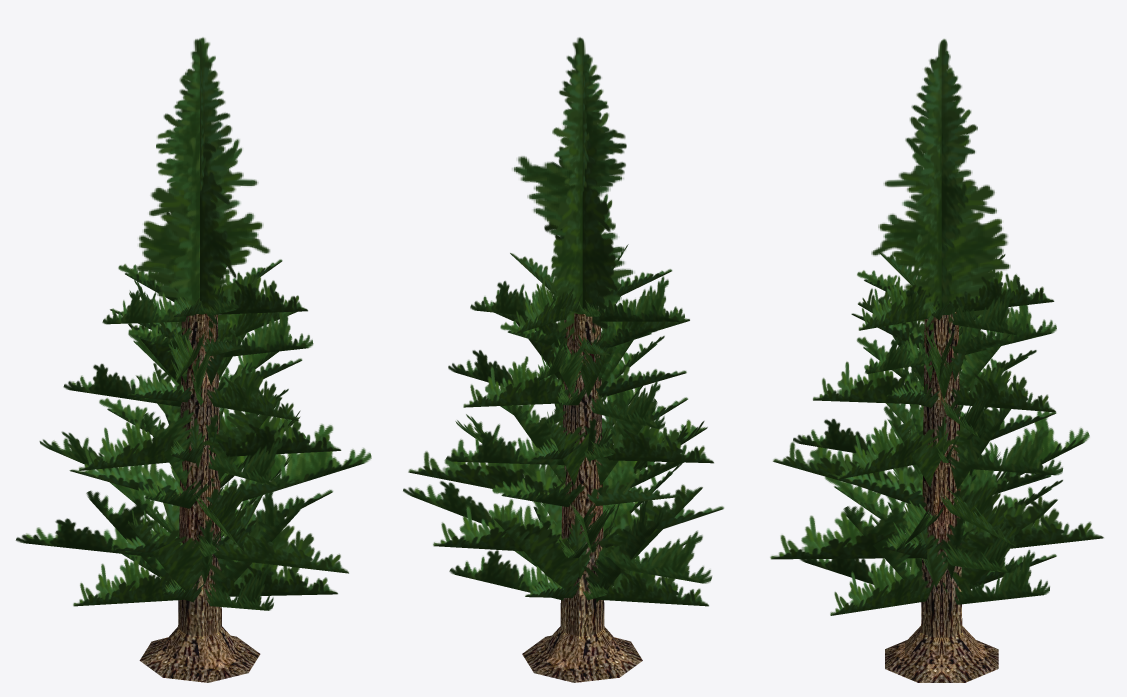
File: ShortTree.glb
The picture shows the model from 3 angles, left to right: view 1: azimuth 30°, elevation 25°; view 2: azimuth 150°, elevation 25°; view 3: azimuth 270°, elevation 25°; orthographic projection.
Visible parts, largest first — view 1: Trunk; view 2: Trunk; view 3: Trunk.
Part boxes in pixels (x1,y1,x2,y2): Trunk: (16, 37, 371, 682); Trunk: (403, 37, 723, 682); Trunk: (770, 39, 1103, 682).
Bounding box in the file's own units: 7.02 × 13.47 × 6.97.
Materials: 1 (1 with a texture image).
